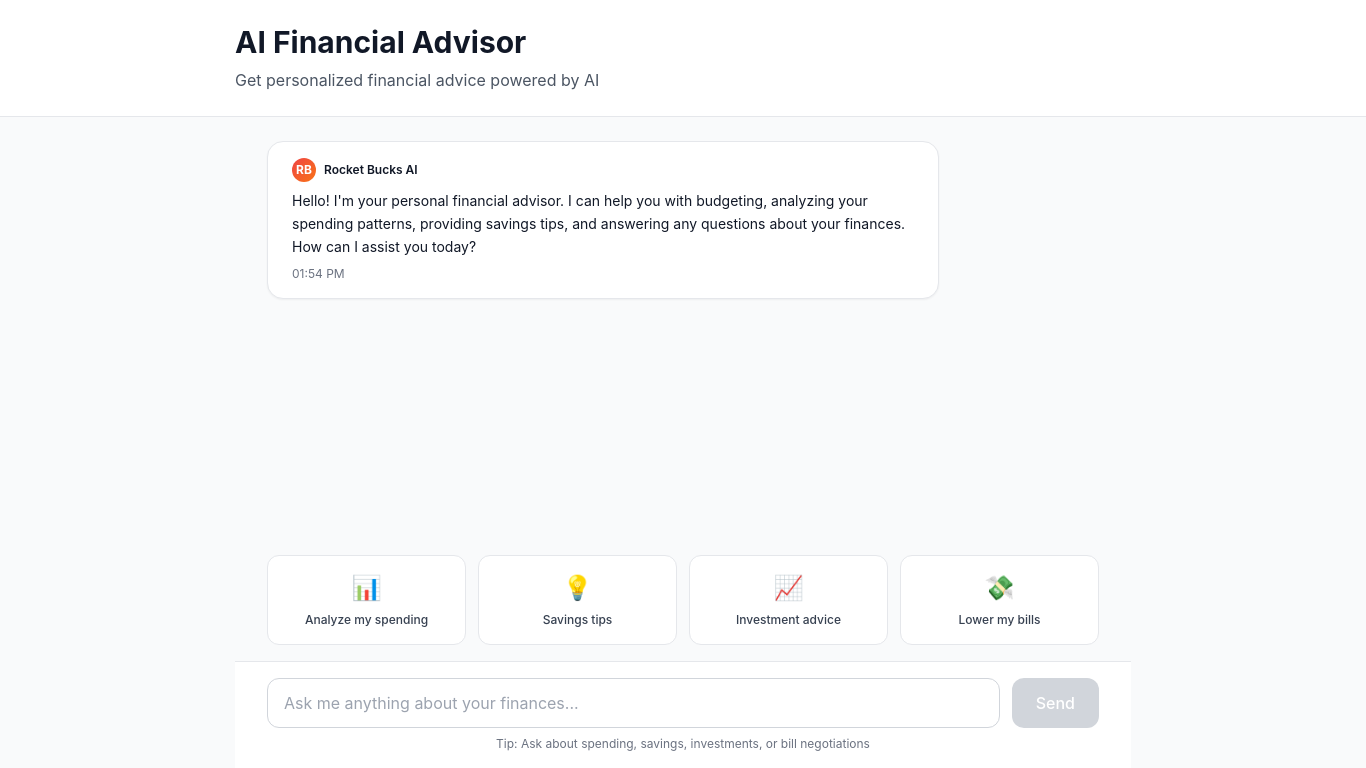
Test: AIChat page › renders heading from AI response
This screenshot has width=1366, height=768.
In the field with placeholder "Ask me anything about your finances...": (633, 703) [267,678,1000,728], type "Summary"
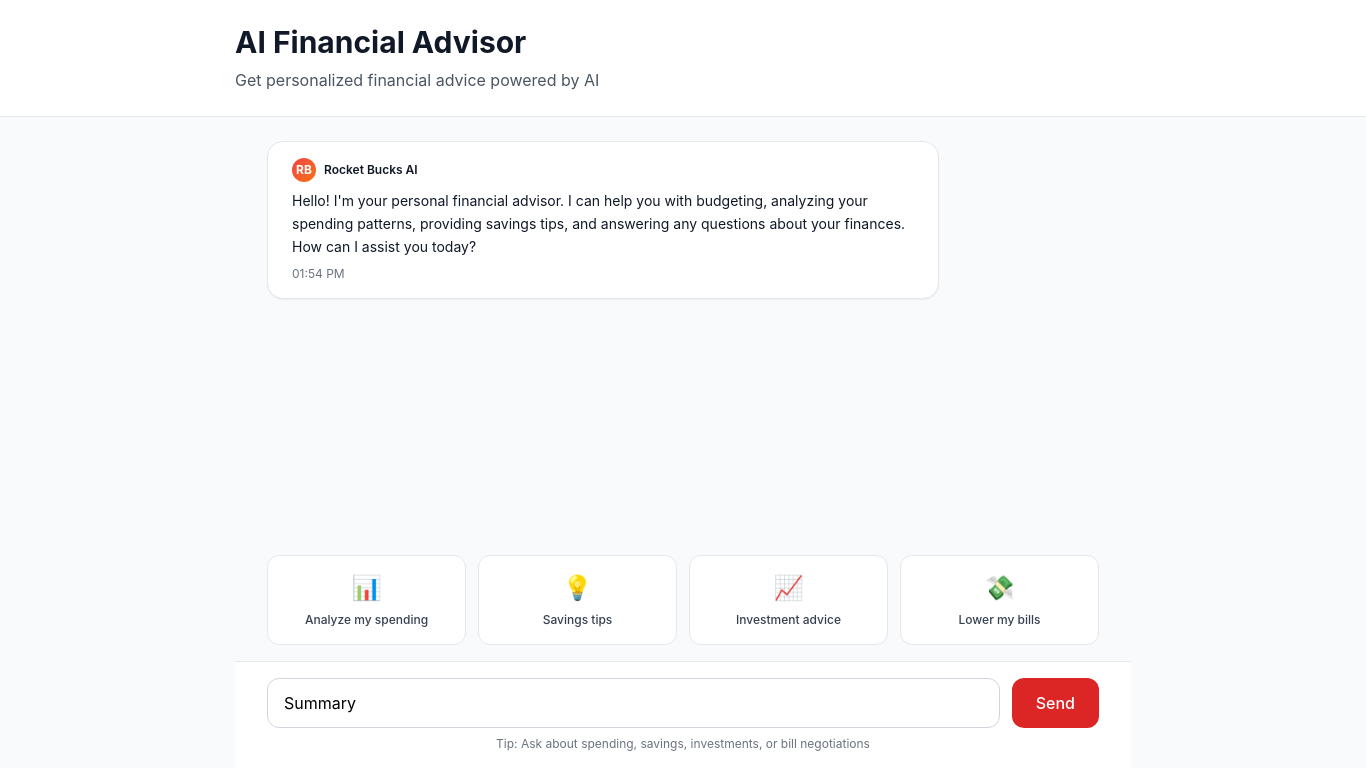
Click the button "Send": click(1055, 703) [1012,678,1099,728]
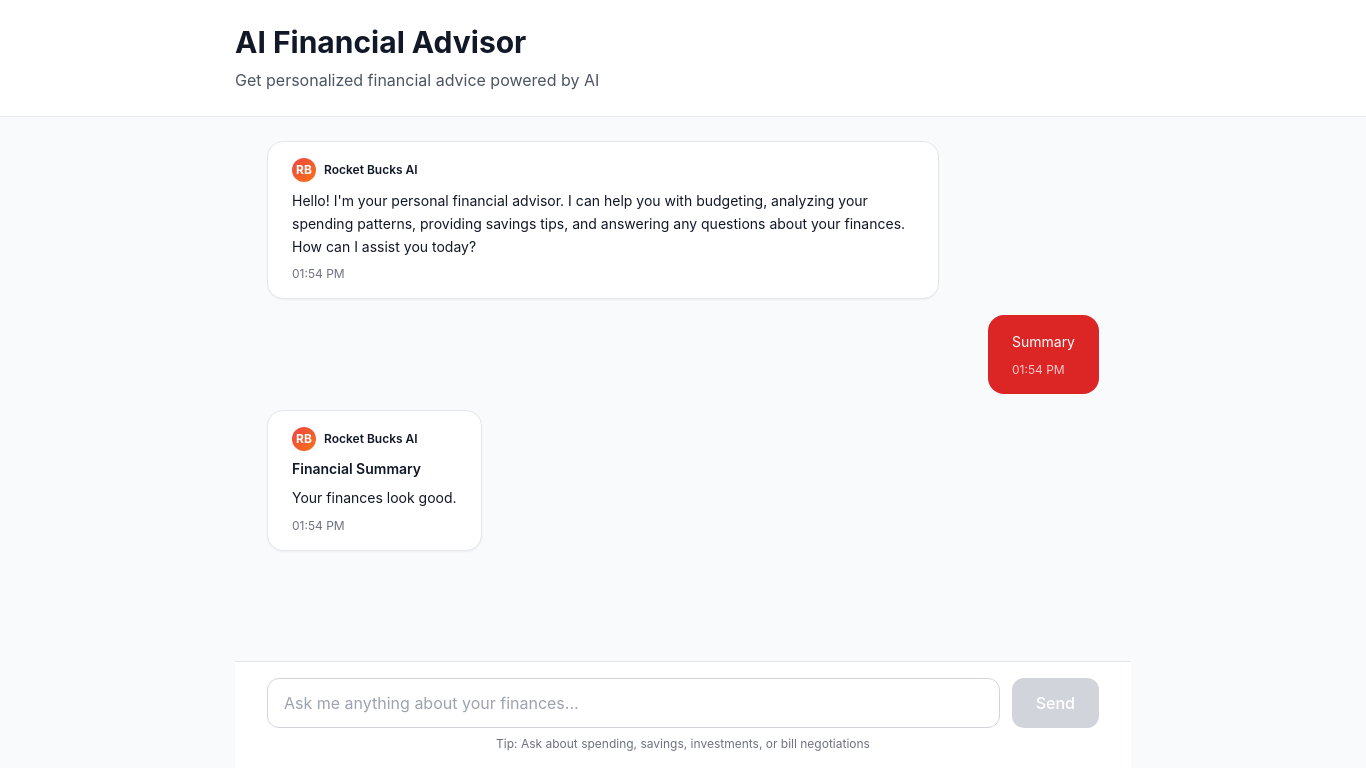
Expected: the text "Financial Summary" is shown, [292,460,421,477]
